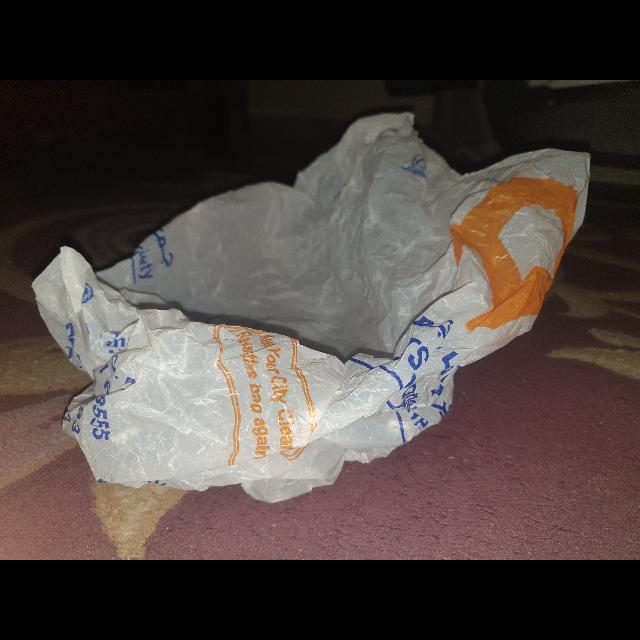plastic_bag: (25, 104, 597, 508)
